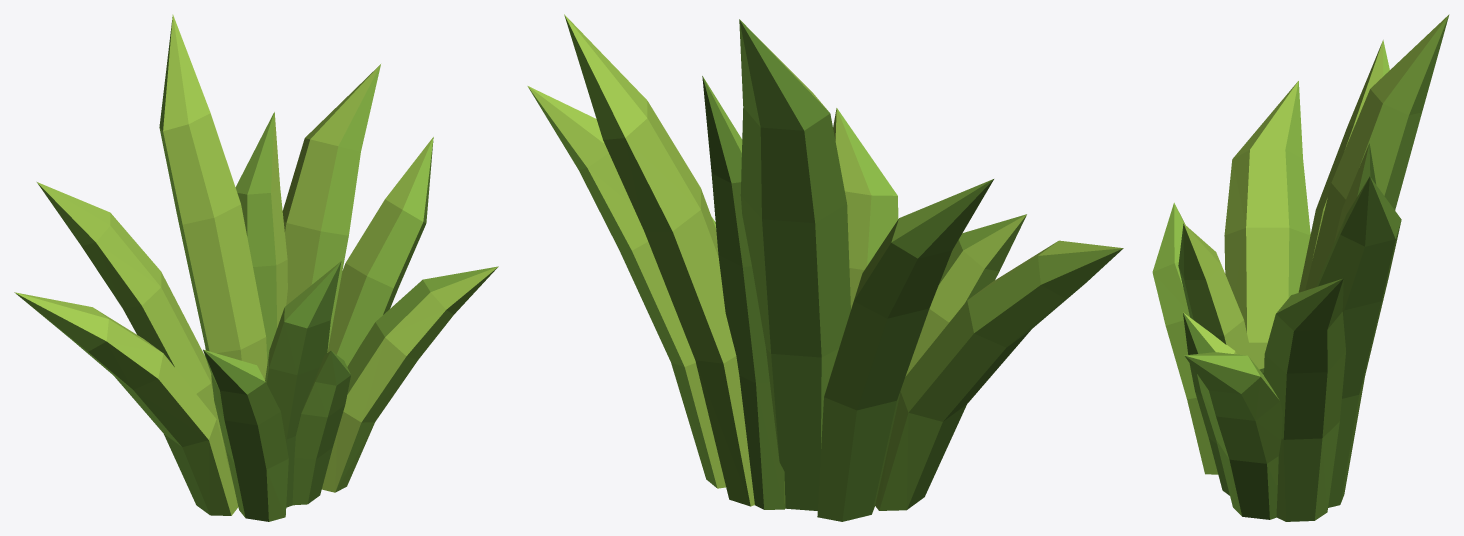
Rendered from FMS_Crop_Wheat_S2.fbx.
3 views of the same model, side by side, from view 1: azimuth 30°, elevation 25°; view 2: azimuth 150°, elevation 25°; view 3: azimuth 270°, elevation 25° (orthographic). The views are drawn at different scales.
Visible parts, largest first — view 1: FMS_Crop_Wheat_S2; view 2: FMS_Crop_Wheat_S2; view 3: FMS_Crop_Wheat_S2.
Boxes of the visible parts, x1=… form: FMS_Crop_Wheat_S2: x1=14, y1=14, x2=498, y2=521; FMS_Crop_Wheat_S2: x1=527, y1=14, x2=1123, y2=521; FMS_Crop_Wheat_S2: x1=1152, y1=14, x2=1449, y2=521.
Bounding box in the file's own units: 0.6828 × 0.6261 × 0.3658.
